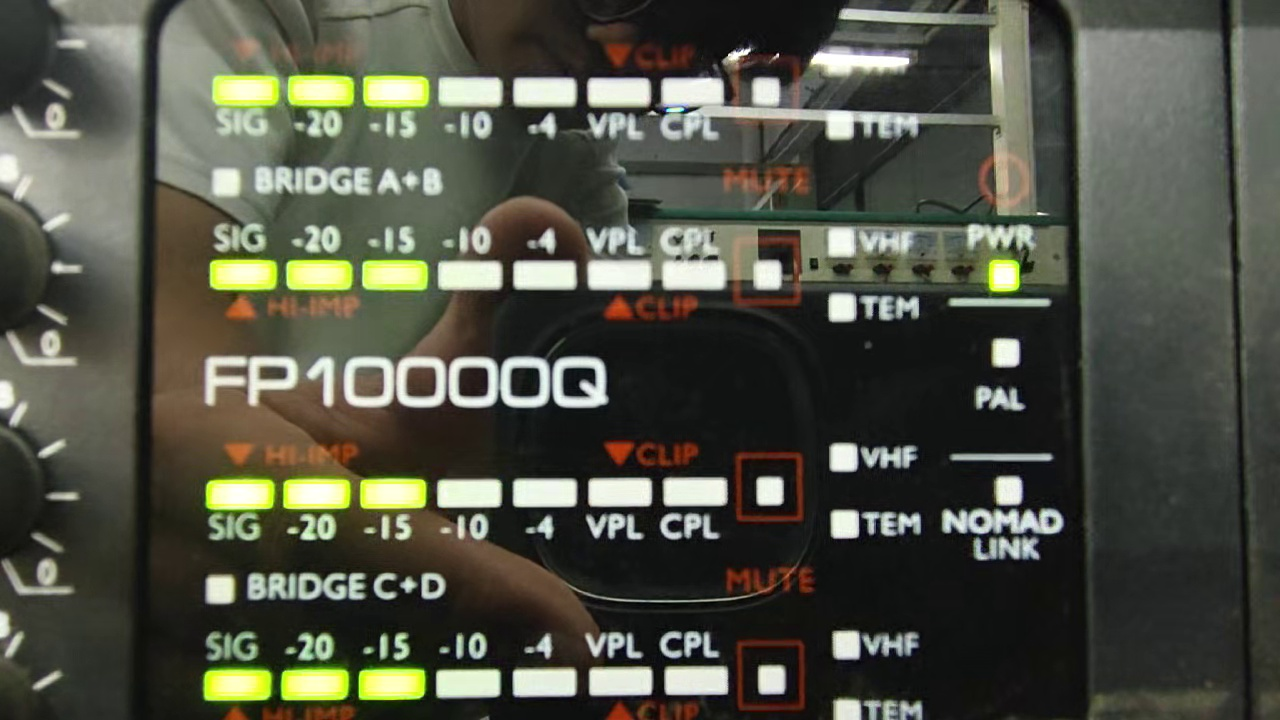FP_CPL: (655, 218, 731, 312), (656, 473, 735, 550), (657, 626, 732, 701), (657, 70, 724, 149)
FP_PWR: (960, 221, 1041, 298)
FP_PWR_area: (946, 149, 1053, 305)
FP_SIG_area: (211, 30, 923, 151), (199, 437, 930, 550), (205, 214, 926, 328), (202, 621, 932, 720)
FP_VPL: (583, 218, 658, 311), (581, 471, 655, 552), (580, 628, 659, 703), (582, 70, 653, 148)
